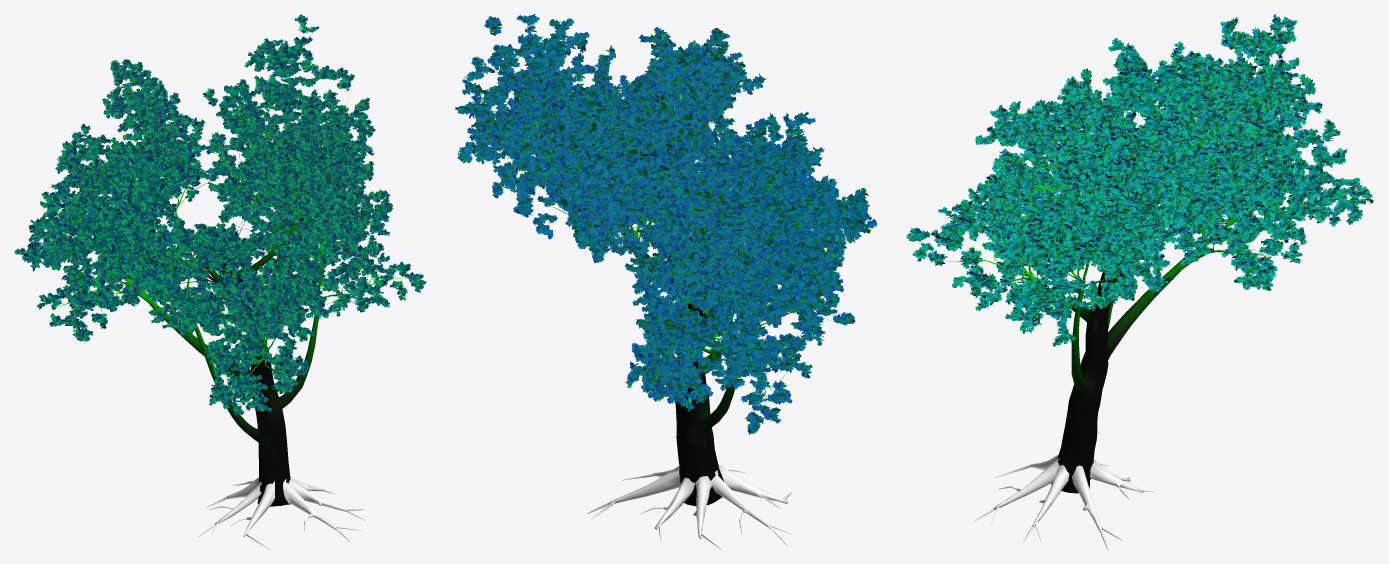
3 renders of one model, left to right at view 1: azimuth 30°, elevation 25°; view 2: azimuth 150°, elevation 25°; view 3: azimuth 270°, elevation 25°, orthographic. The views are drawn at different scales.
Visible parts, largest first — view 1: Foliage, Trunk, Branches, Roots, Twigs; view 2: Foliage, Roots, Trunk, Twigs, Branches, RootTips; view 3: Foliage, Trunk, Roots, Branches, Twigs.
Boxes of the visible parts, left/top/right/bottom form: Foliage: left=14, top=14, right=426, bottom=415; Trunk: left=230, top=270, right=290, bottom=506; Branches: left=114, top=199, right=350, bottom=442; Roots: left=214, top=476, right=348, bottom=537; Twigs: left=49, top=64, right=401, bottom=401; Foliage: left=455, top=14, right=877, bottom=434; Roots: left=607, top=464, right=788, bottom=538; Trunk: left=675, top=301, right=723, bottom=506; Twigs: left=488, top=77, right=836, bottom=419; Branches: left=576, top=162, right=764, bottom=432; RootTips: left=587, top=469, right=792, bottom=549; Foliage: left=906, top=14, right=1373, bottom=346; Trunk: left=1051, top=267, right=1111, bottom=493; Roots: left=993, top=455, right=1143, bottom=532; Branches: left=1023, top=141, right=1247, bottom=392; Twigs: left=945, top=58, right=1326, bottom=319.
Bounding box in the file's own units: 50111 × 59158 × 67849.
